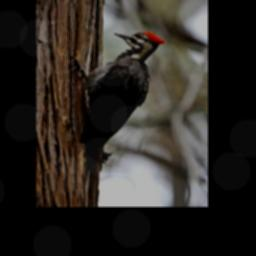Woodpecker: (69, 31, 166, 181)
